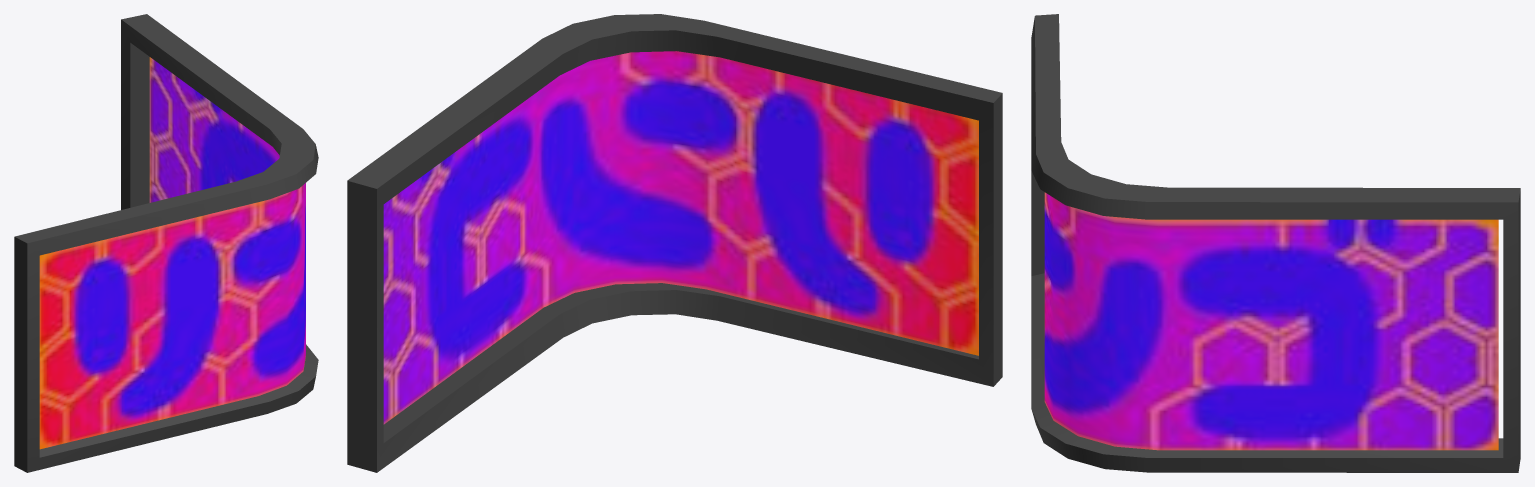
File: Sign_Corner_1.glb
3 views of the same model, side by side, from view 1: azimuth 30°, elevation 25°; view 2: azimuth 150°, elevation 25°; view 3: azimuth 270°, elevation 25° (orthographic). The views are drawn at different scales.
Visible parts, largest first — view 1: Sign_Corner_1; view 2: Sign_Corner_1; view 3: Sign_Corner_1.
Part boxes in pixels (x1,y1,x2,y2): Sign_Corner_1: [14, 14, 318, 472]; Sign_Corner_1: [347, 14, 1002, 472]; Sign_Corner_1: [1031, 14, 1520, 472].
Size of the model in its own units: 1.09 by 0.7269 by 1.19.
2 materials, 1 textured.
